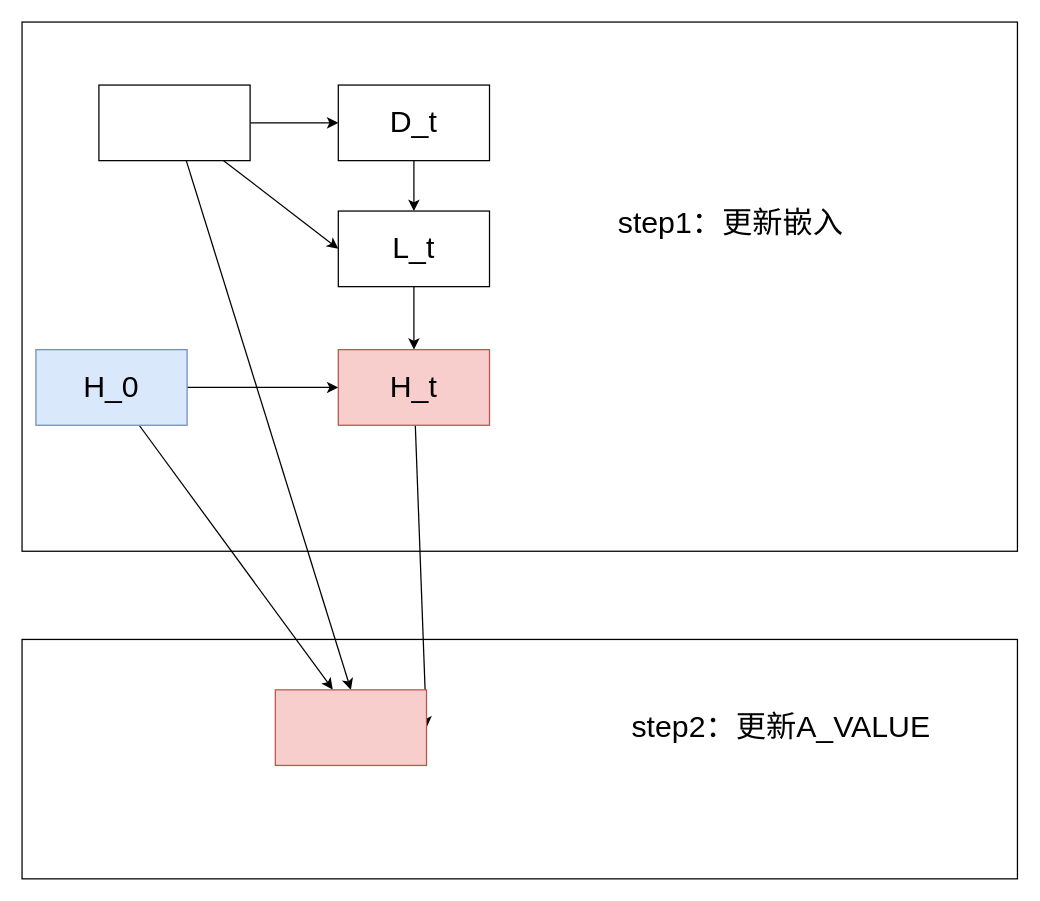
Some shapes in this 1040 by 901 pixel diagram are drawn without their labels. The centre of each missing label's shape, as x and y in pixels:
"S_t" belongs at point 174,122.
"S_t+1" belongs at point 350,727.
